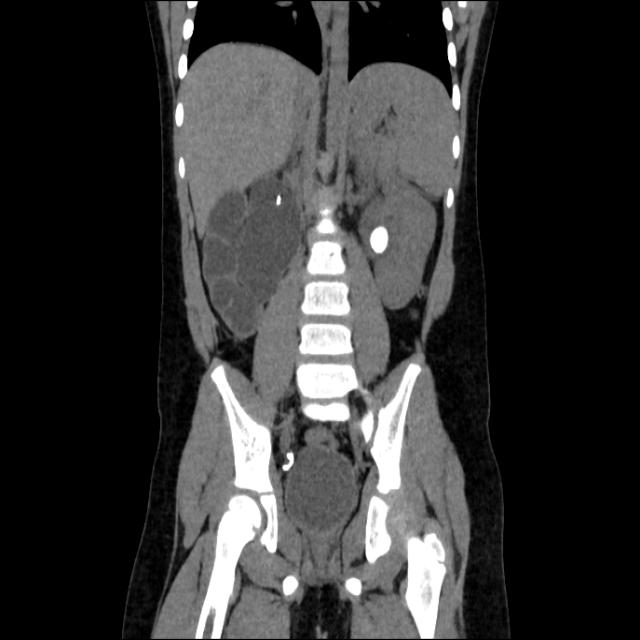kidney: (198, 170, 304, 344), (359, 180, 439, 314)
stone: (369, 219, 390, 257), (274, 190, 284, 210)
